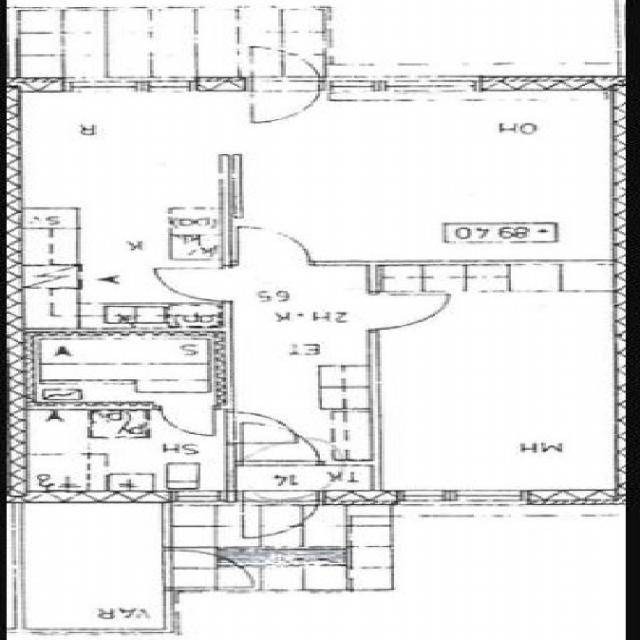door: (244, 491, 318, 541), (164, 550, 253, 588), (242, 425, 316, 467), (252, 78, 319, 124), (252, 46, 319, 91), (239, 226, 309, 264), (158, 268, 236, 300), (370, 295, 446, 327), (223, 411, 298, 442), (157, 401, 210, 436)
